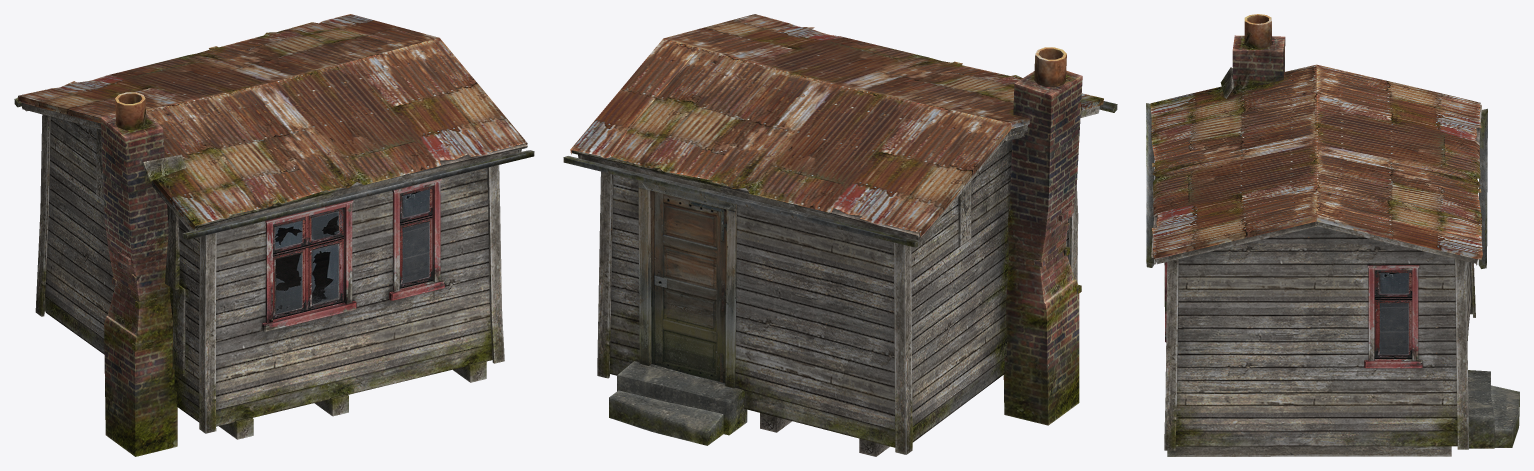
The model's file is Building11.FBX.
3 renders of one model, left to right at view 1: azimuth 30°, elevation 25°; view 2: azimuth 150°, elevation 25°; view 3: azimuth 270°, elevation 25°, orthographic. The views are drawn at different scales.
Visible parts, largest first — view 1: Building11; view 2: Building11; view 3: Building11.
Boxes of the visible parts, x1=… form: Building11: x1=14, y1=14, x2=534, y2=456; Building11: x1=563, y1=14, x2=1117, y2=456; Building11: x1=1146, y1=14, x2=1519, y2=456.
Size of the model in its own units: 486 by 465 by 440.
1 material, 1 textured.
